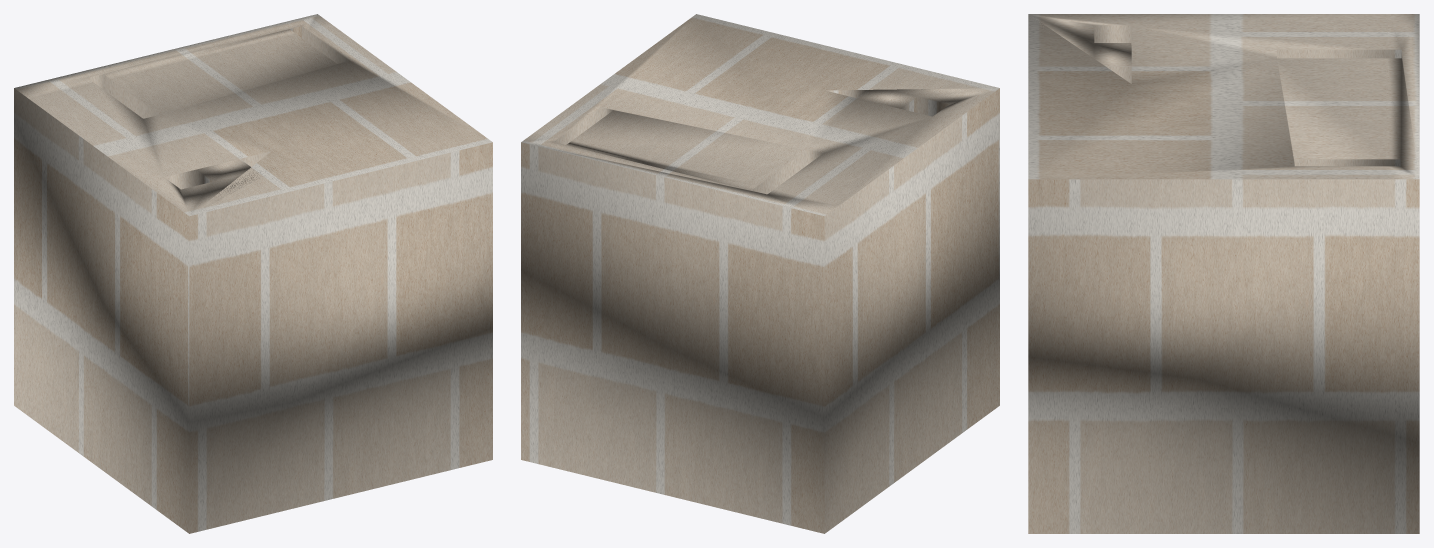
The model's file is Wall.obj.
3 renders of one model, left to right at view 1: azimuth 30°, elevation 25°; view 2: azimuth 150°, elevation 25°; view 3: azimuth 270°, elevation 25°, orthographic. The views are drawn at different scales.
Parts seen in each view (by area): view 1: Wall; view 2: Wall; view 3: Wall.
Boxes of the visible parts, box(x1,y1,x2,y2) form: Wall: box(14, 14, 492, 533); Wall: box(521, 14, 999, 533); Wall: box(1028, 14, 1419, 533).
Bounding box in the file's own units: 0.02 × 0.02 × 0.02.
Materials: 1 (1 with a texture image).
